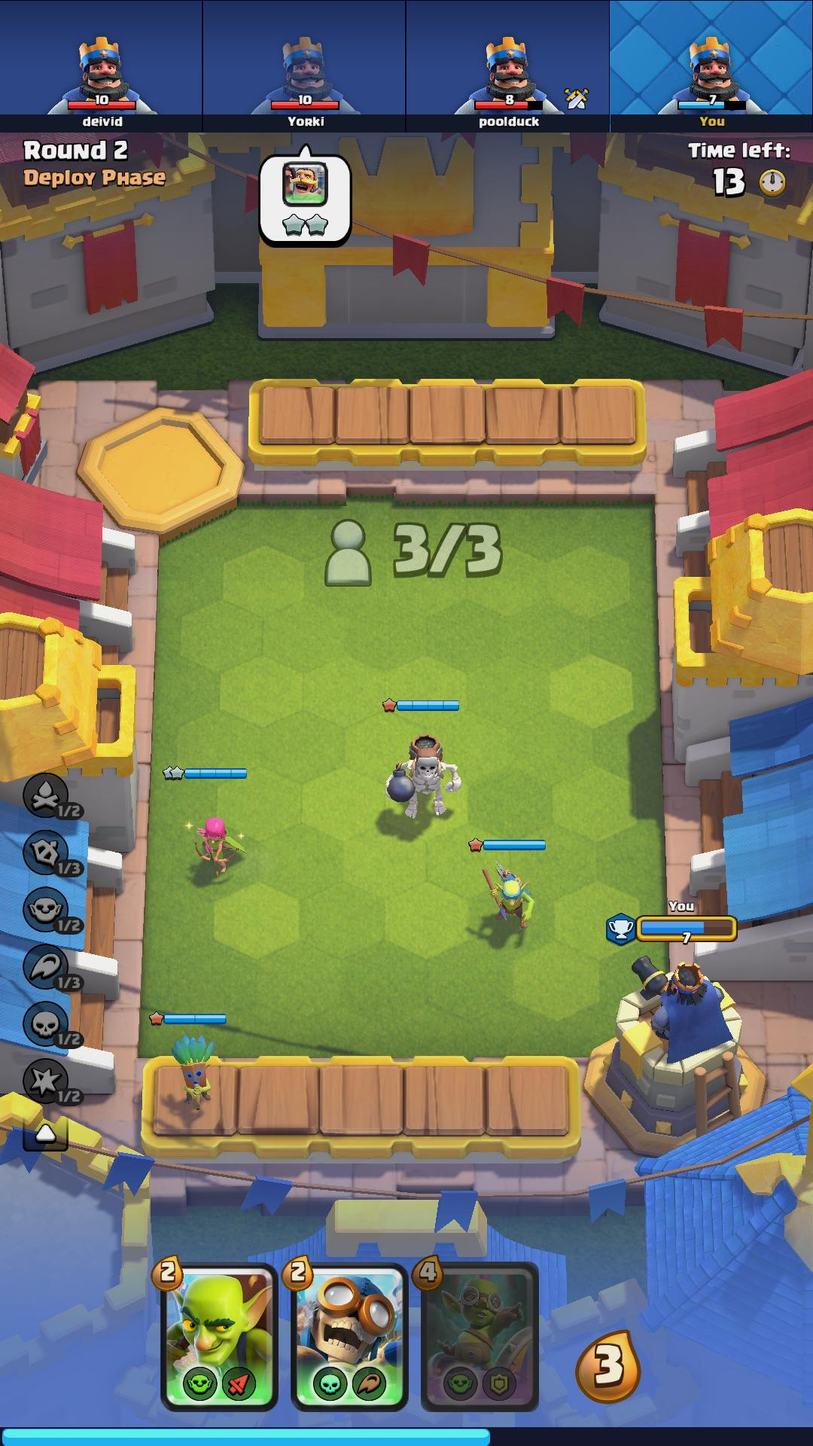archer: (177, 795, 248, 887)
dart: (159, 1029, 223, 1108)
giant: (380, 728, 468, 831)
hand-bomber: (295, 1270, 405, 1410)
hand-goblin: (162, 1269, 279, 1410)
hand-machine: (427, 1265, 542, 1413)
spear: (478, 854, 543, 939)
